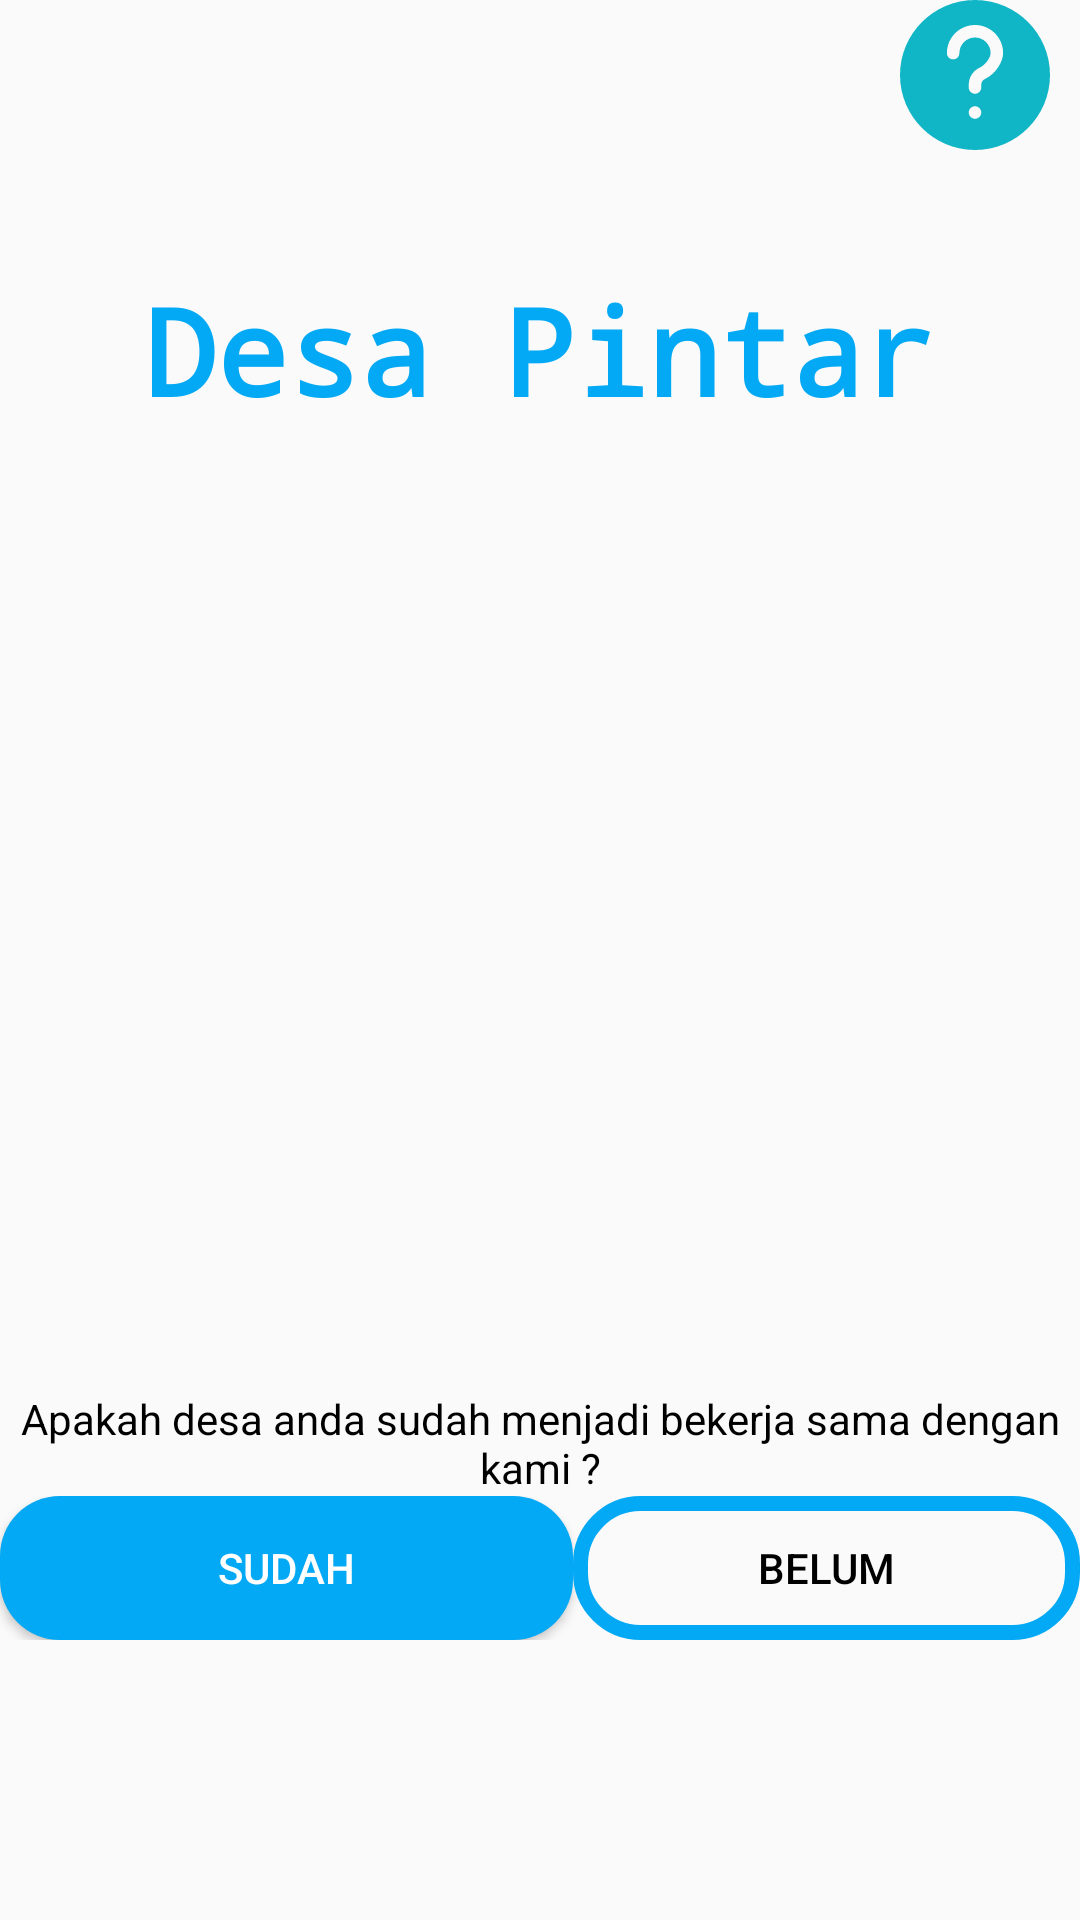

Icons on this 1080 × 1920 Android screen, each with the point to tap as (x,y):
question: (975,75)
